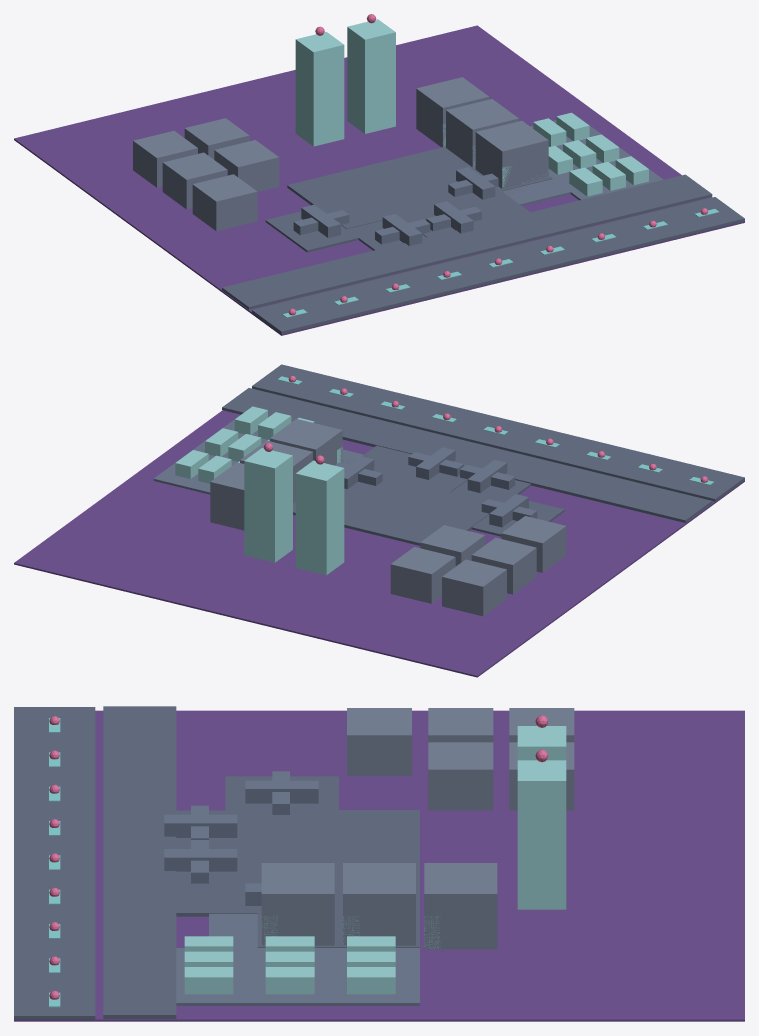
Rendered from stage_23.glb.
3 renders of one model, top to bottom at view 1: azimuth 30°, elevation 25°; view 2: azimuth 150°, elevation 25°; view 3: azimuth 270°, elevation 25°, orthographic. The views are drawn at different scales.
Parts seen in each view (by area): view 1: geometry_0; view 2: geometry_0; view 3: geometry_0.
Boxes of the visible parts, box(x1,y1,x2,y2) form: geometry_0: box(14, 14, 744, 335); geometry_0: box(14, 364, 744, 677); geometry_0: box(14, 706, 744, 1021).
Bounding box in the file's own units: 9 × 2.06 × 9.
